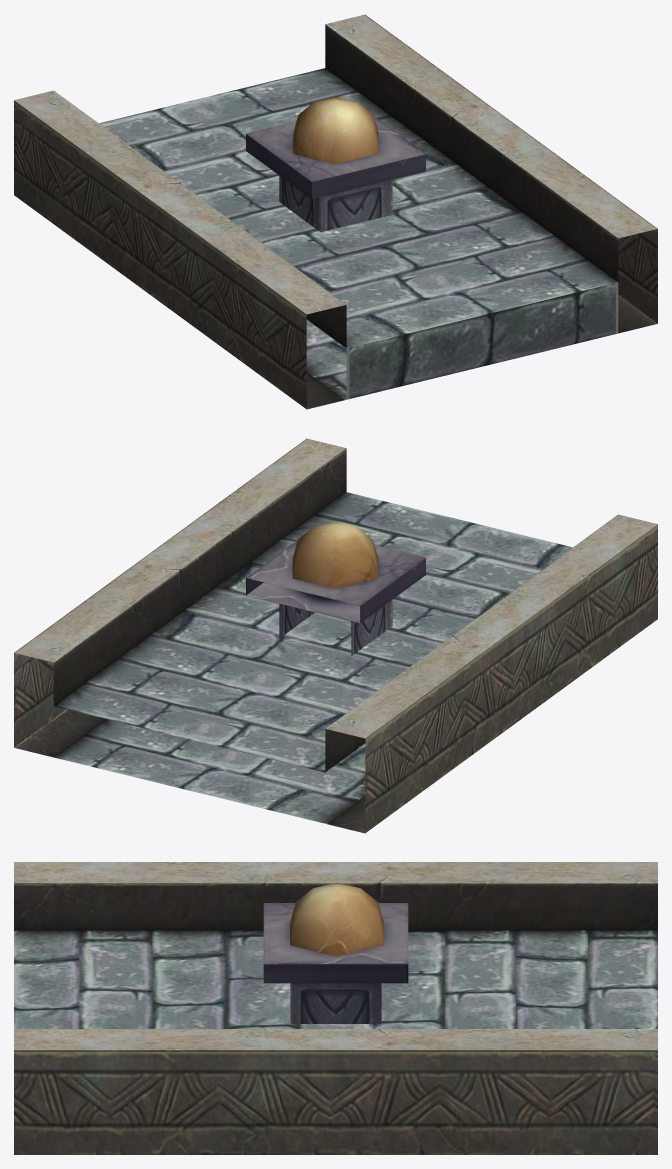
File: Bonus_Road.fbx
3 renders of one model, top to bottom at view 1: azimuth 30°, elevation 25°; view 2: azimuth 150°, elevation 25°; view 3: azimuth 270°, elevation 25°, orthographic. The views are drawn at different scales.
Visible parts, largest first — view 1: Bonus_Road_01, Bonus_Road_03, Bonus_Road_02; view 2: Bonus_Road_01, Bonus_Road_03; view 3: Bonus_Road_01, Bonus_Road_03.
Boxes of the visible parts, <box> form: Bonus_Road_01: <box>14,14,657,409</box>; Bonus_Road_03: <box>246,97,425,232</box>; Bonus_Road_02: <box>306,316,656,408</box>; Bonus_Road_01: <box>14,438,657,833</box>; Bonus_Road_03: <box>246,521,425,655</box>; Bonus_Road_01: <box>14,862,657,1154</box>; Bonus_Road_03: <box>263,882,408,1023</box>.
Bounding box in the file's own units: 367 × 220 × 529.
